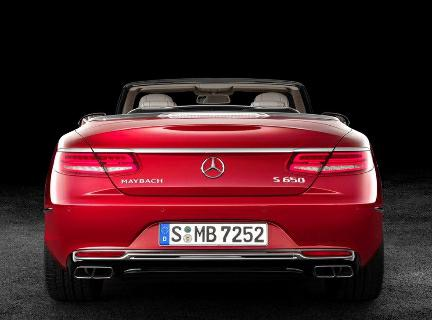奔驰-迈巴赫S级: (34, 56, 395, 310)
